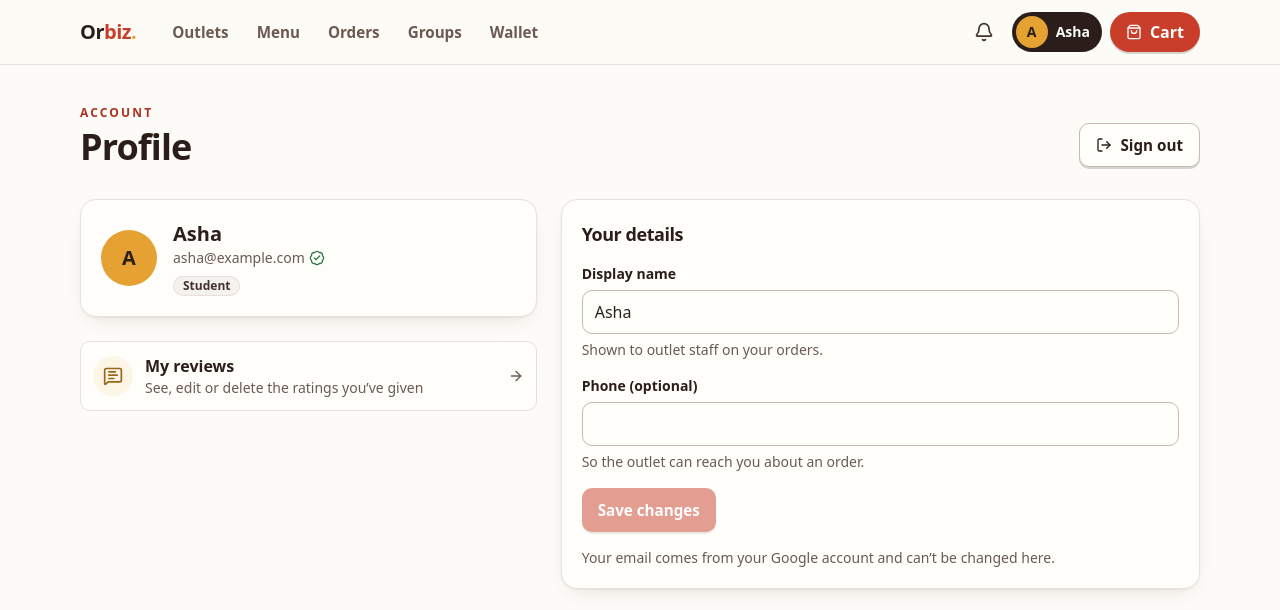
Test: <ProfilePage /> › validates the phone number on the client too
Type "call me" into the field labelled "Phone (optional)" at x=880, y=424, box [595,403,1166,445]
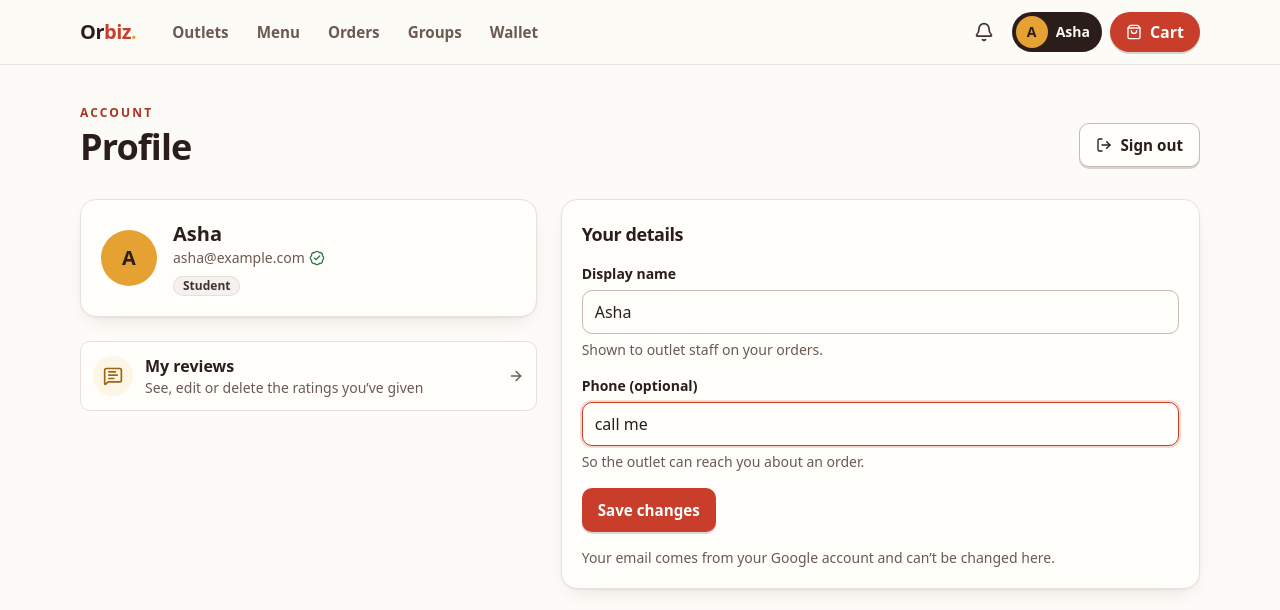
Click the button "Save changes" at x=649, y=510, box [582,488,716,532]
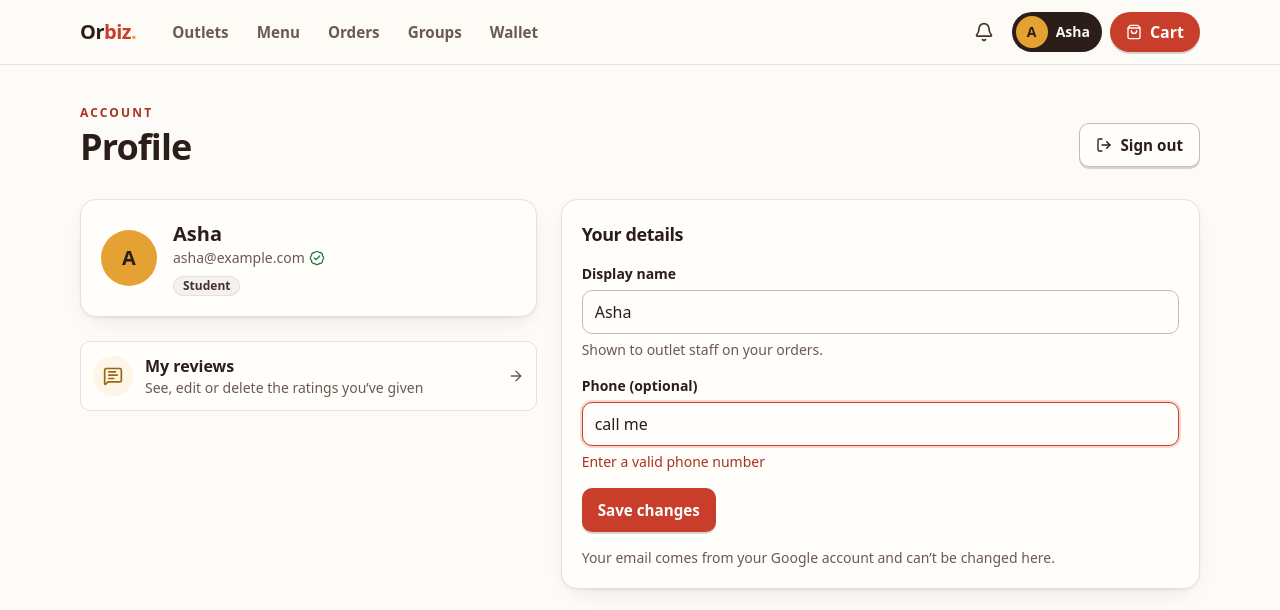
Result: the text "Enter a valid phone number" is shown at [582,452,765,471]
